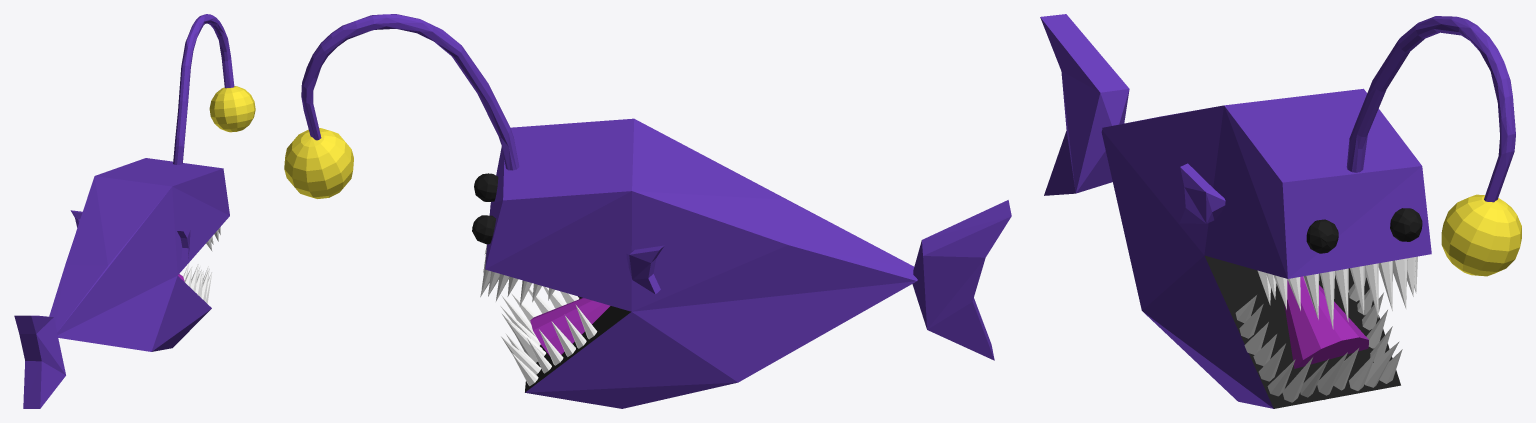
File: nature-angler-fish-237.glb
3 renders of one model, left to right at view 1: azimuth 30°, elevation 25°; view 2: azimuth 150°, elevation 25°; view 3: azimuth 270°, elevation 25°, orthographic. The views are drawn at different scales.
Visible parts, largest first — view 1: Node; view 2: Node; view 3: Node.
Boxes of the visible parts, left/top/right/bottom form: Node: left=14, top=14, right=255, bottom=408; Node: left=284, top=14, right=1011, bottom=408; Node: left=1040, top=14, right=1521, bottom=408.
Size of the model in its own units: 1.67 by 1.18 by 1.11.
